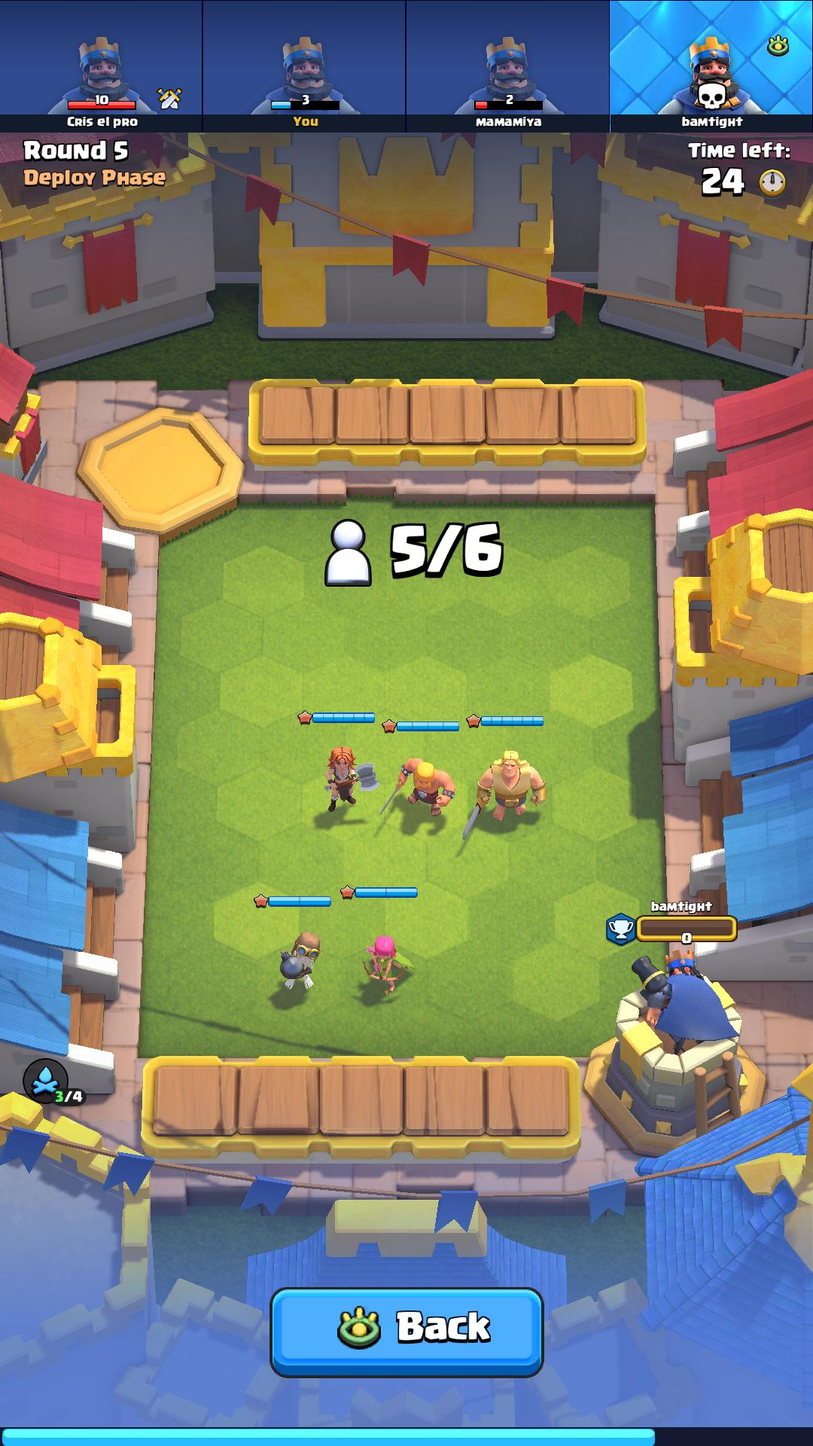archer: (350, 925, 412, 995)
barbarian: (380, 748, 456, 822)
bomber: (268, 919, 327, 993)
golden: (449, 747, 560, 837)
valkyrie: (307, 741, 378, 821)
